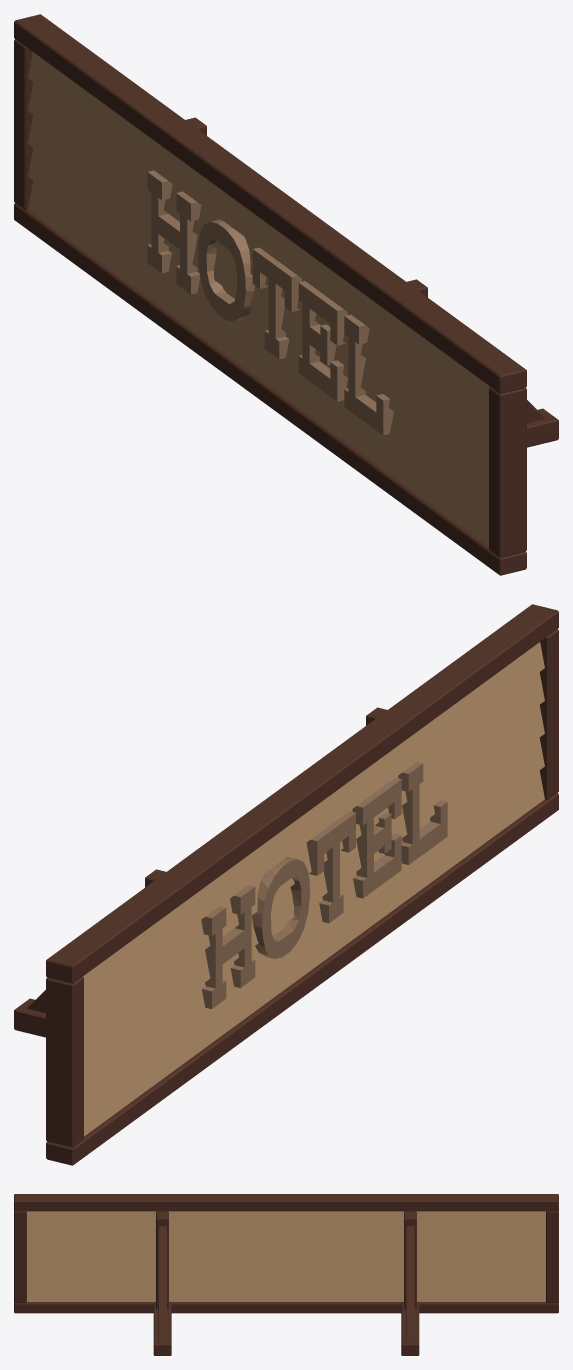
File: hotel-sign-a.glb
3 views of the same model, one above another, from view 1: azimuth 30°, elevation 25°; view 2: azimuth 150°, elevation 25°; view 3: azimuth 270°, elevation 25° (orthographic). The views are drawn at different scales.
Visible parts, largest first — view 1: Hotel Sign A (×3); view 2: Hotel Sign A (×3); view 3: Hotel Sign A (×2).
Part boxes in pixels (x1,y1,x2,y2): Hotel Sign A (×3): [14, 14, 558, 575]; Hotel Sign A (×3): [14, 604, 558, 1165]; Hotel Sign A (×2): [14, 1194, 558, 1355].
Bounding box in the file's own units: 1.46 × 1.5 × 6.6.
